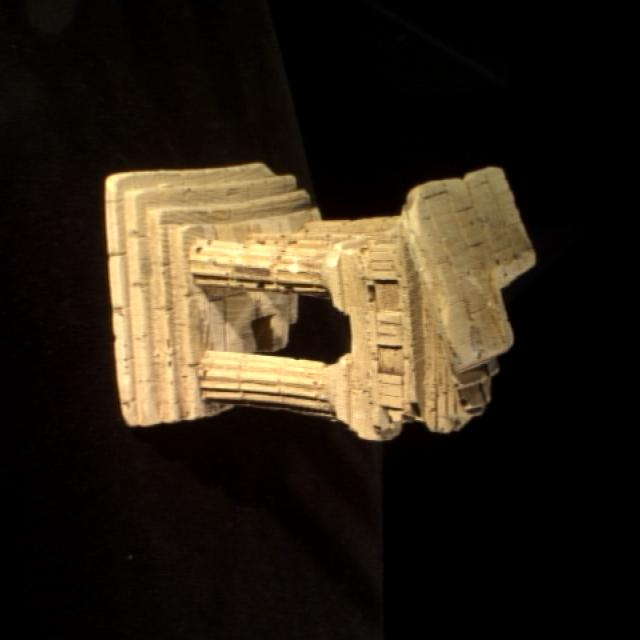Instance-Segmentation: (105, 163, 534, 440)
